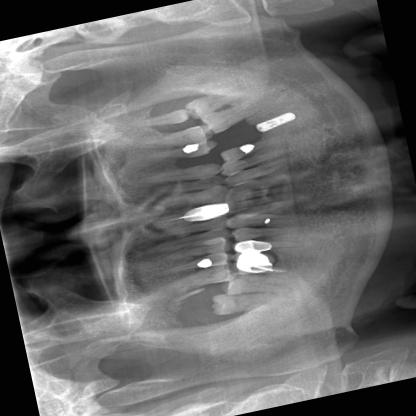ITI: (250, 104, 299, 132)
